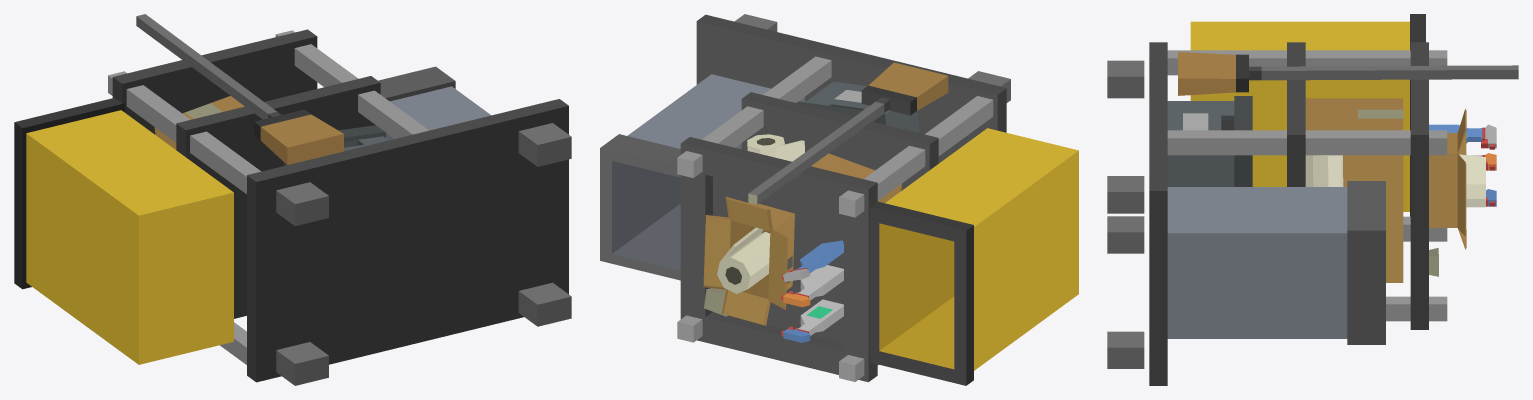
File: JanitorCart.glb
3 renders of one model, left to right at view 1: azimuth 30°, elevation 25°; view 2: azimuth 150°, elevation 25°; view 3: azimuth 270°, elevation 25°, orthographic. The views are drawn at different scales.
Parts seen in each view (by area): view 1: SO_JanitorCart; view 2: SO_JanitorCart; view 3: SO_JanitorCart.
Part boxes in pixels (x1=…): SO_JanitorCart: x1=14, y1=14, x2=571, y2=385; SO_JanitorCart: x1=600, y1=14, x2=1078, y2=385; SO_JanitorCart: x1=1107, y1=14, x2=1518, y2=385.
Bounding box in the file's own units: 3 × 1.52 × 2.66.
1 material, 1 textured.
